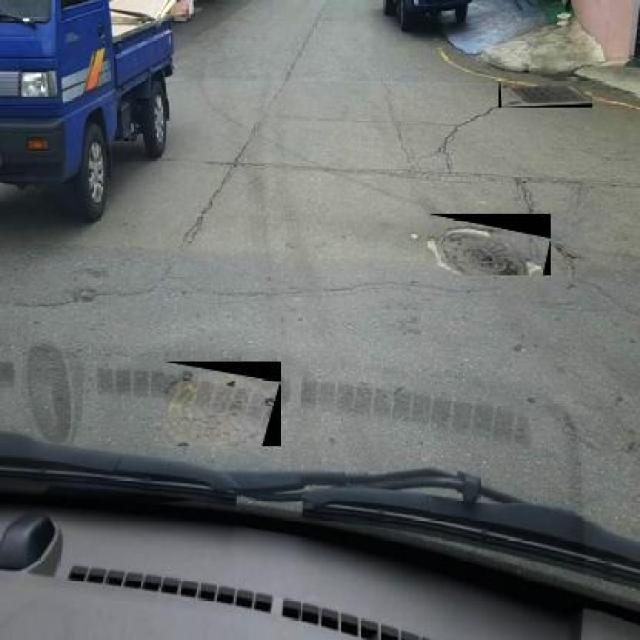Manhole: (164, 362, 280, 446), (428, 213, 550, 276), (498, 80, 592, 108)
